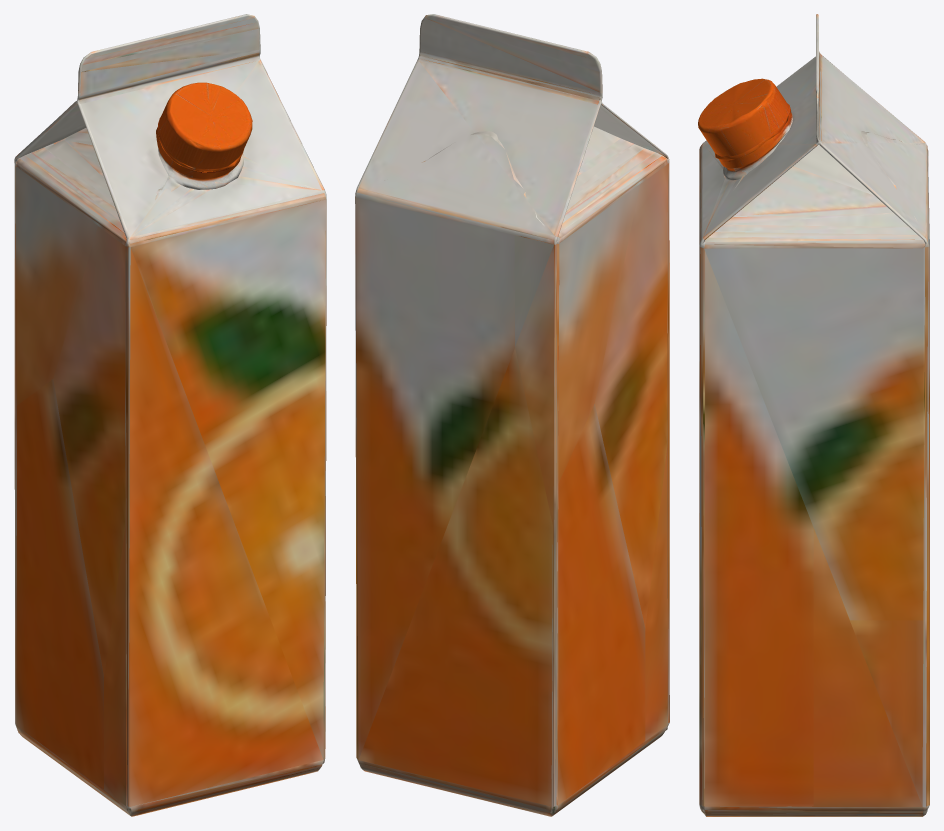
File: item-juice-t25.glb
3 views of the same model, side by side, from view 1: azimuth 30°, elevation 25°; view 2: azimuth 150°, elevation 25°; view 3: azimuth 270°, elevation 25° (orthographic).
Parts seen in each view (by area): view 1: item-juice-t25; view 2: item-juice-t25; view 3: item-juice-t25.
Part boxes in pixels (box(x1,y1,x2,y2)): item-juice-t25: box(14, 14, 326, 816); item-juice-t25: box(355, 14, 669, 816); item-juice-t25: box(698, 14, 929, 816).
Bounding box in the file's own units: 0.057 × 0.195 × 0.0568.
1 material, 1 textured.
